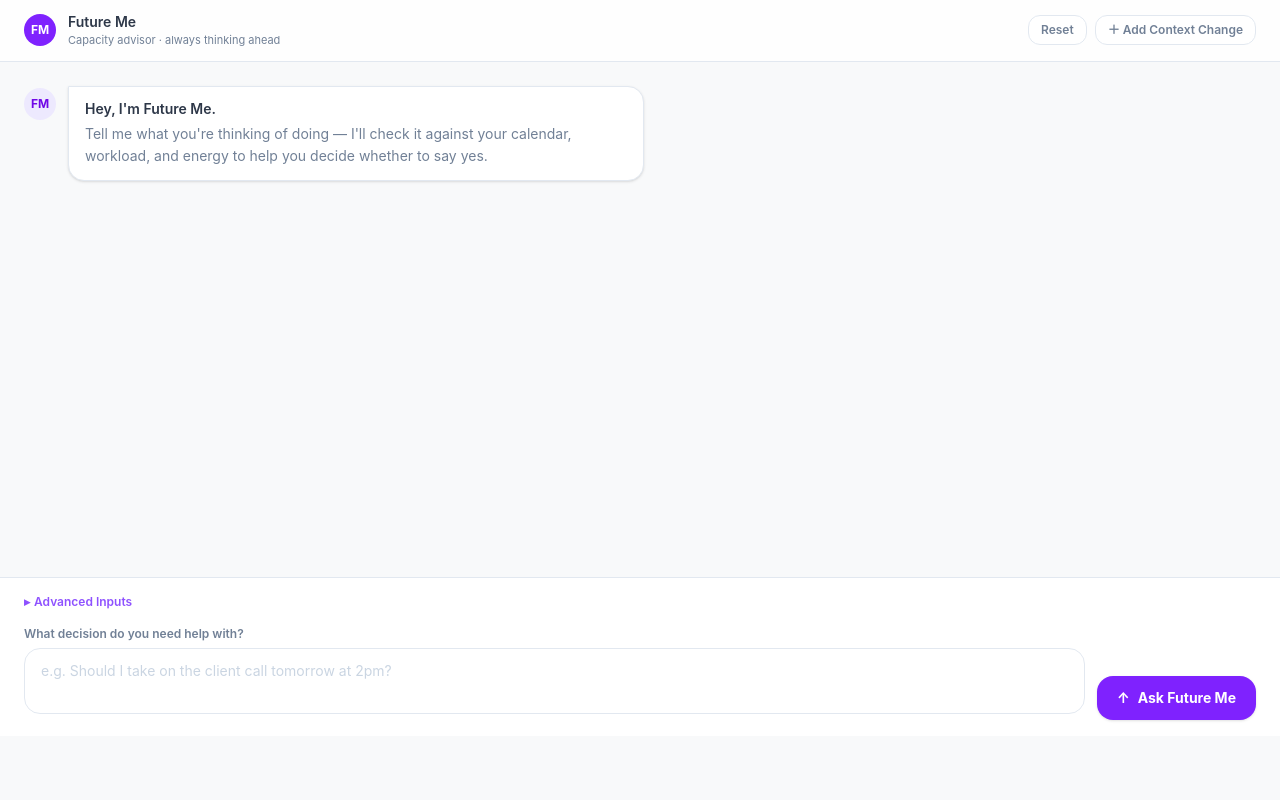
Test case: DecisionsPage - RECOMMEND › renders recommendation option, reason, and boundary clearly, without choice persistence
Type "Should I work?" into the text box labelled "What decision do you need help with?" at (554, 681), box [24, 648, 1085, 714]
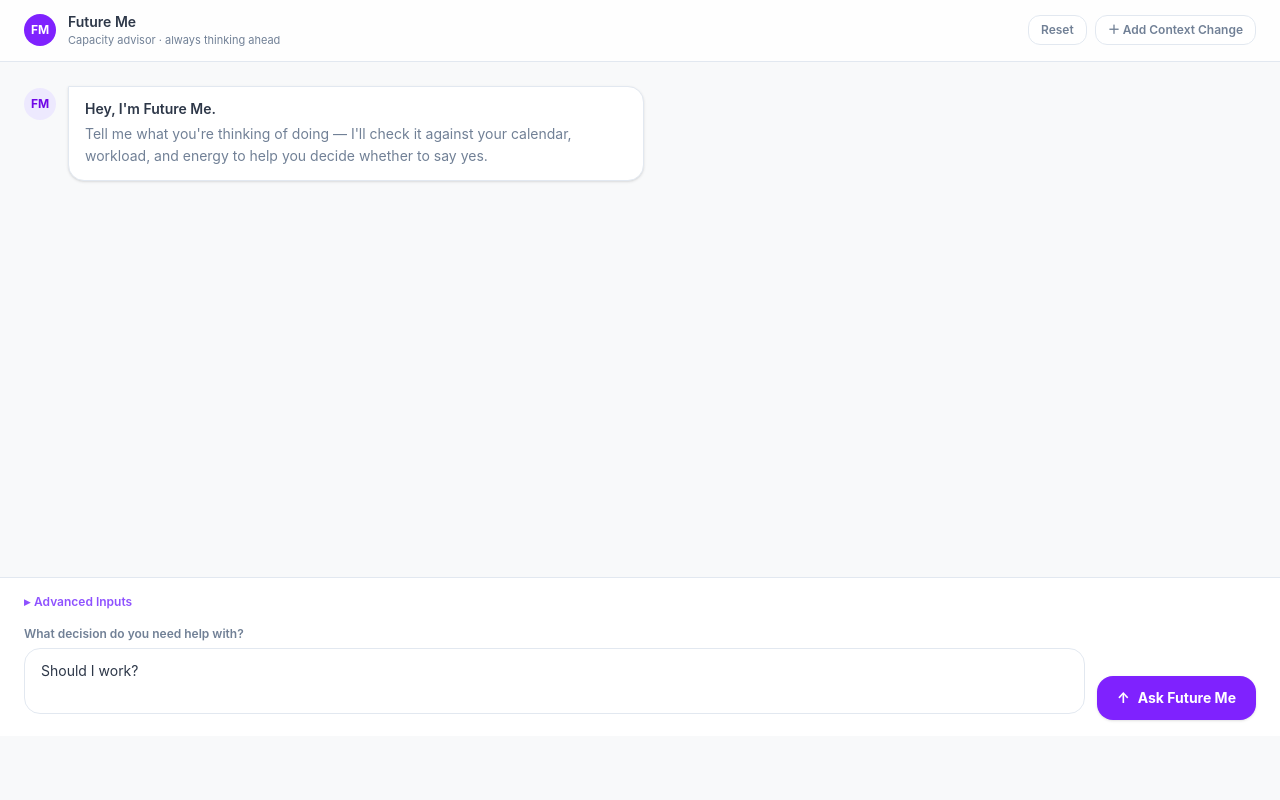
Click the button "↑ Ask Future Me" at (1176, 698), box [1097, 676, 1256, 720]
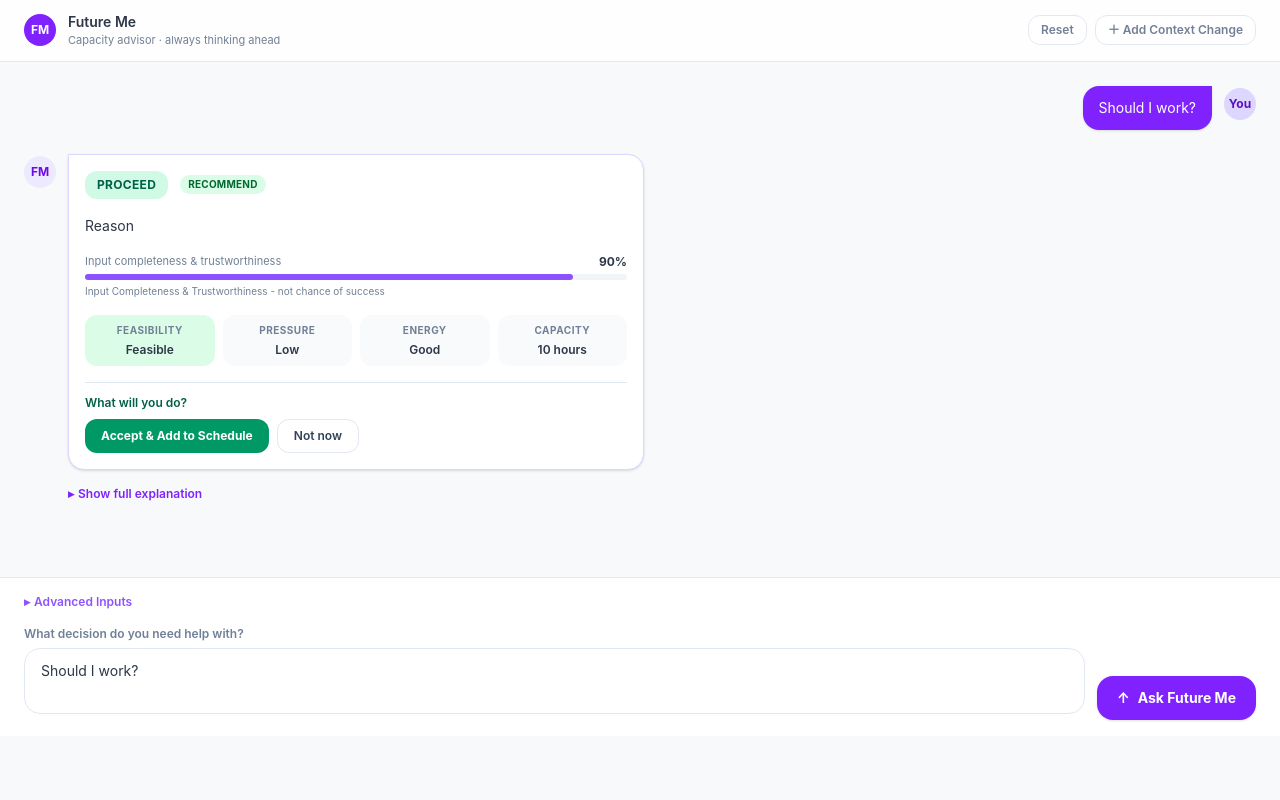
Expected: the text "Proceed" is shown, [85, 170, 168, 198]
Expected: the text "What will you do?" is shown, [85, 395, 187, 410]
Expected: the button "Accept & Add to Schedule" is shown, [85, 419, 269, 453]
